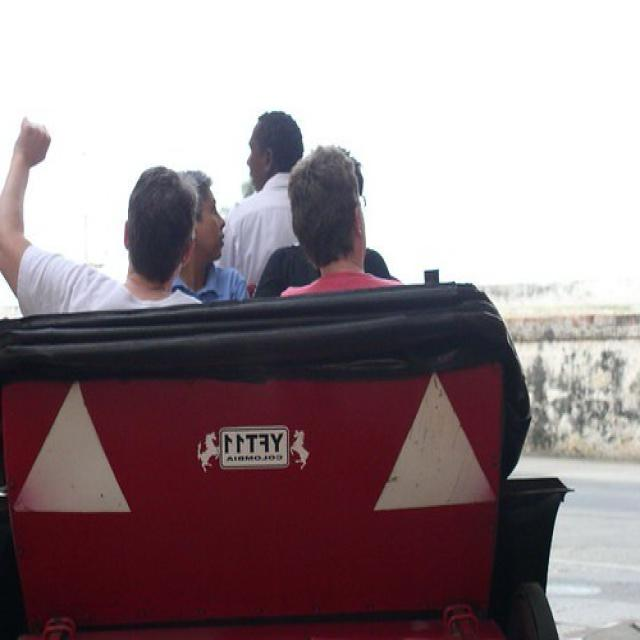placas: (221, 429, 287, 454)
